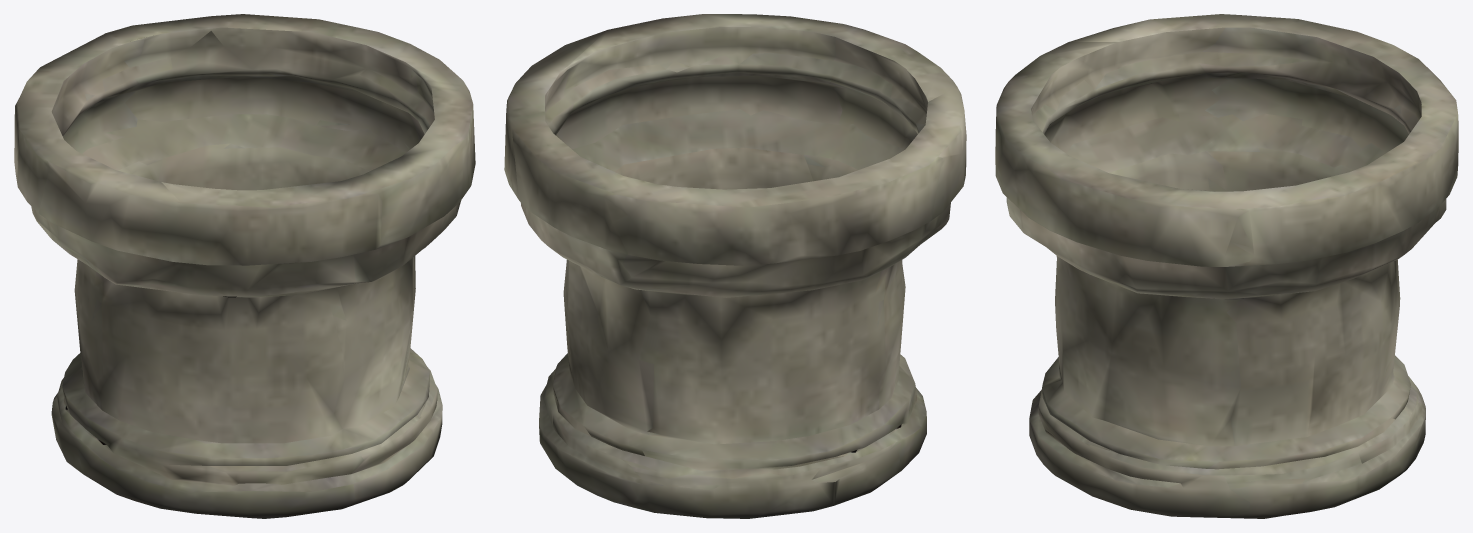
File: plain-limestone-well-v001.glb
The picture shows the model from 3 angles, left to right: view 1: azimuth 30°, elevation 25°; view 2: azimuth 150°, elevation 25°; view 3: azimuth 270°, elevation 25°; orthographic projection.
Parts seen in each view (by area): view 1: plain-limestone-well; view 2: plain-limestone-well; view 3: plain-limestone-well.
Part boxes in pixels (x1,y1,x2,y2): plain-limestone-well: (14, 14, 475, 518); plain-limestone-well: (504, 14, 966, 518); plain-limestone-well: (995, 14, 1458, 518).
Size of the model in its own units: 1.34 by 1.06 by 1.34.
1 material, 1 textured.
